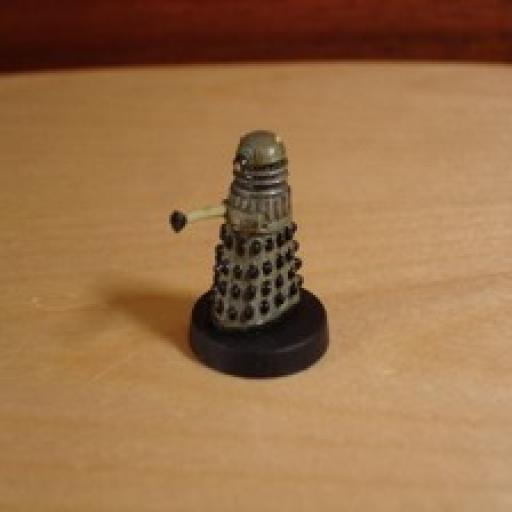dalek: (165, 131, 304, 336)
